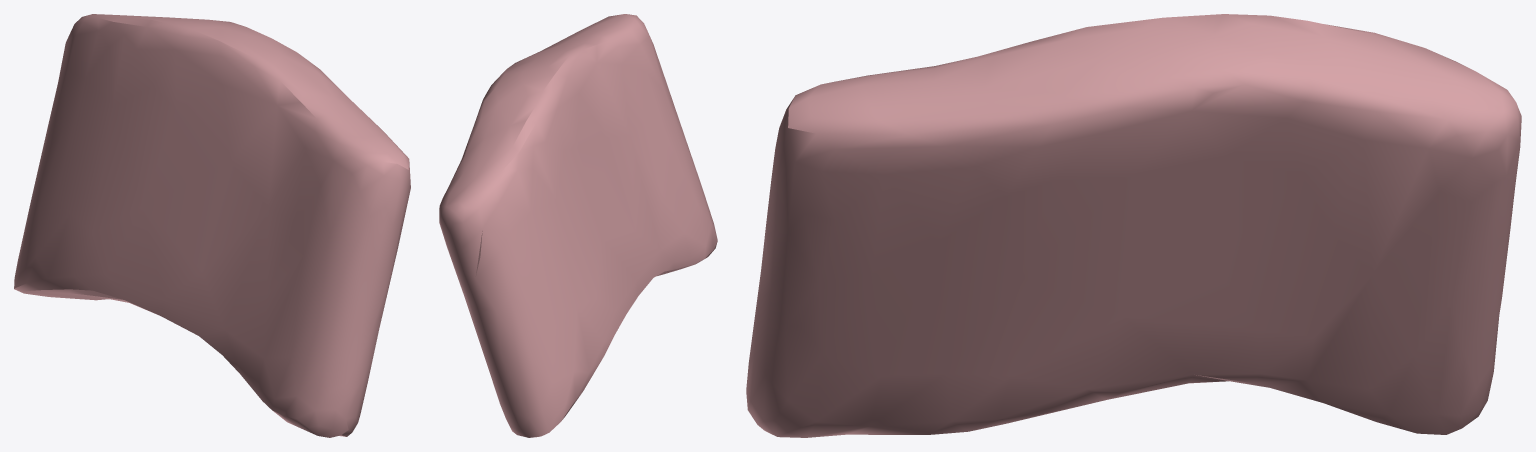
The model's file is fma275373-o_mm3369m.glb.
3 renders of one model, left to right at view 1: azimuth 30°, elevation 25°; view 2: azimuth 150°, elevation 25°; view 3: azimuth 270°, elevation 25°, orthographic. The views are drawn at different scales.
Visible parts, largest first — view 1: FMA275373-O_MM3369M; view 2: FMA275373-O_MM3369M; view 3: FMA275373-O_MM3369M.
Boxes of the visible parts, <box> form: FMA275373-O_MM3369M: <box>14,14,410,437</box>; FMA275373-O_MM3369M: <box>439,14,717,437</box>; FMA275373-O_MM3369M: <box>746,14,1521,437</box>.
Bounding box in the file's own units: 0.00601 × 0.00976 × 0.0151.
